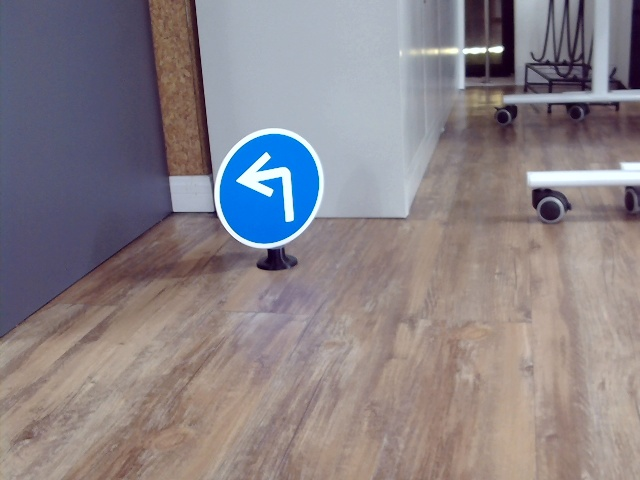turn_left: (236, 153, 294, 221)
